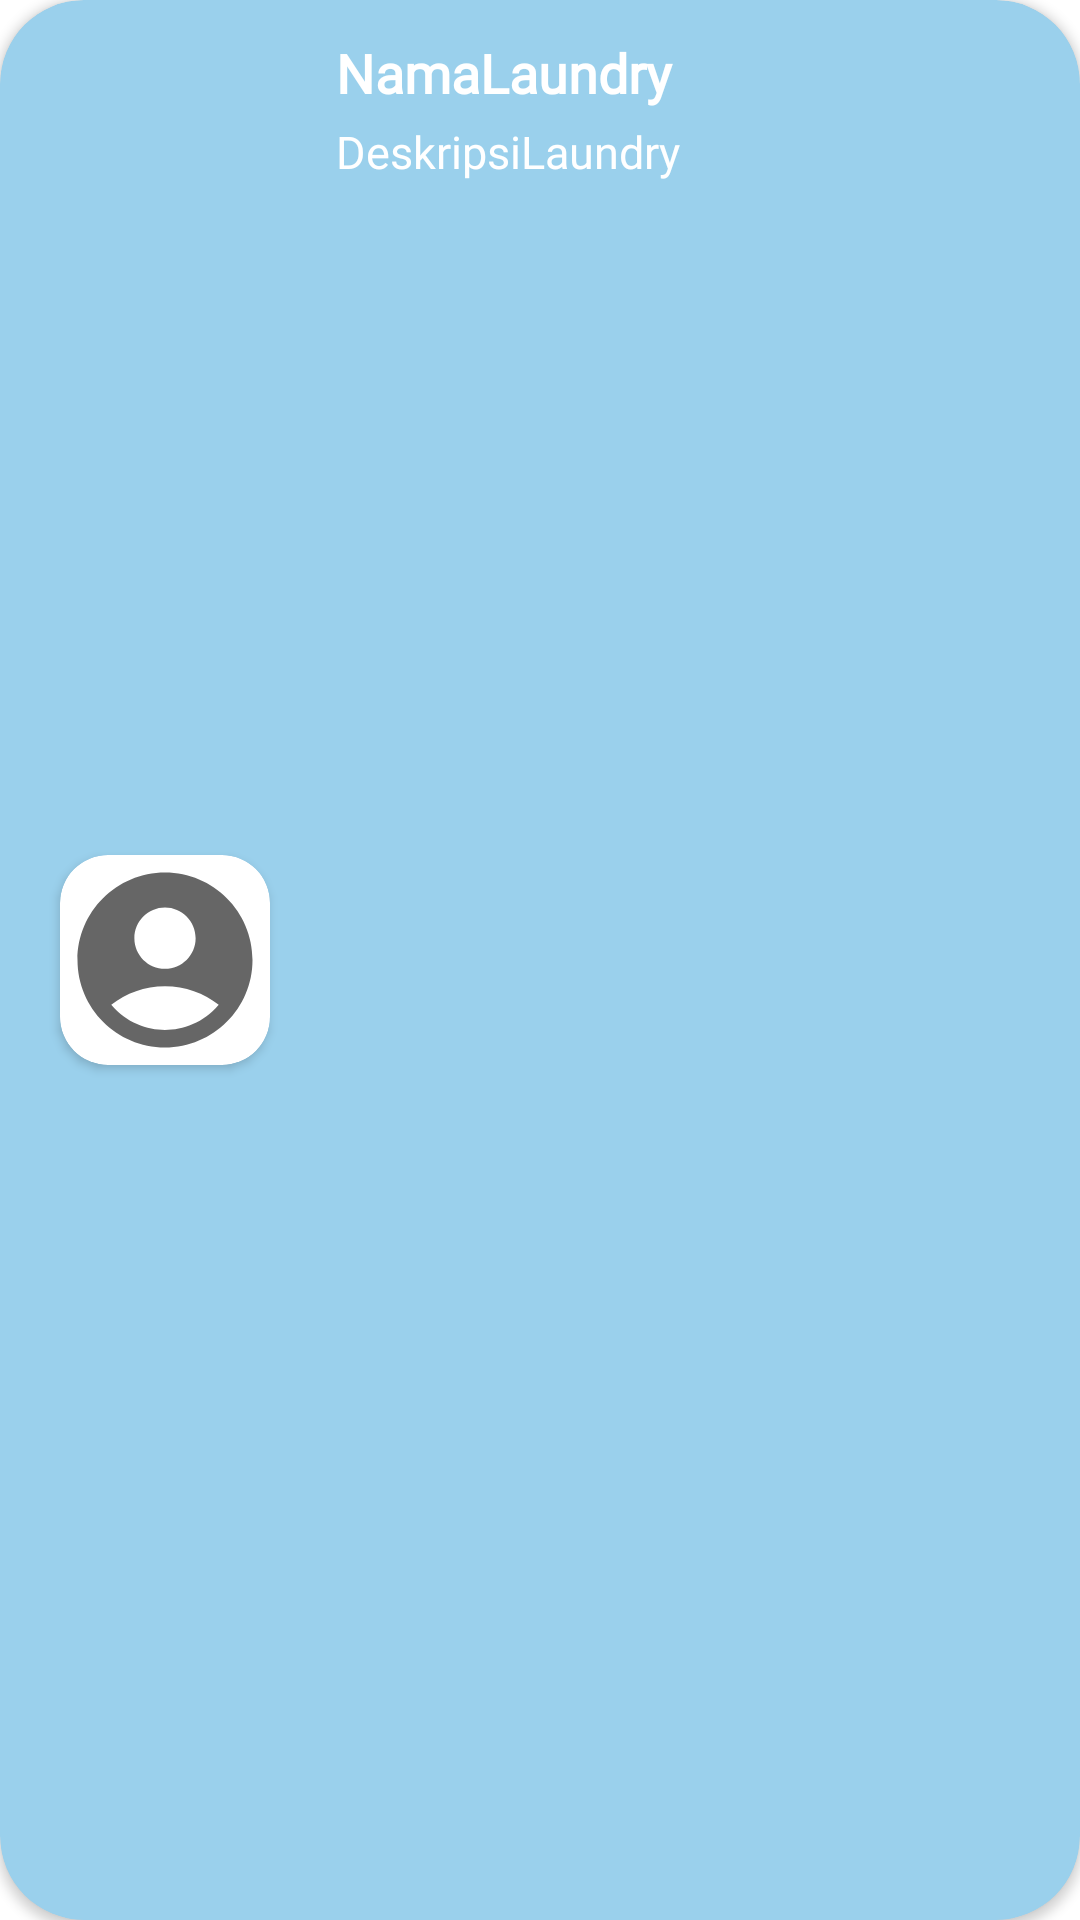

Icons on this 1080w x 1920h Android screen, each with the point to tap as [x,y]:
profile: [165,960]
